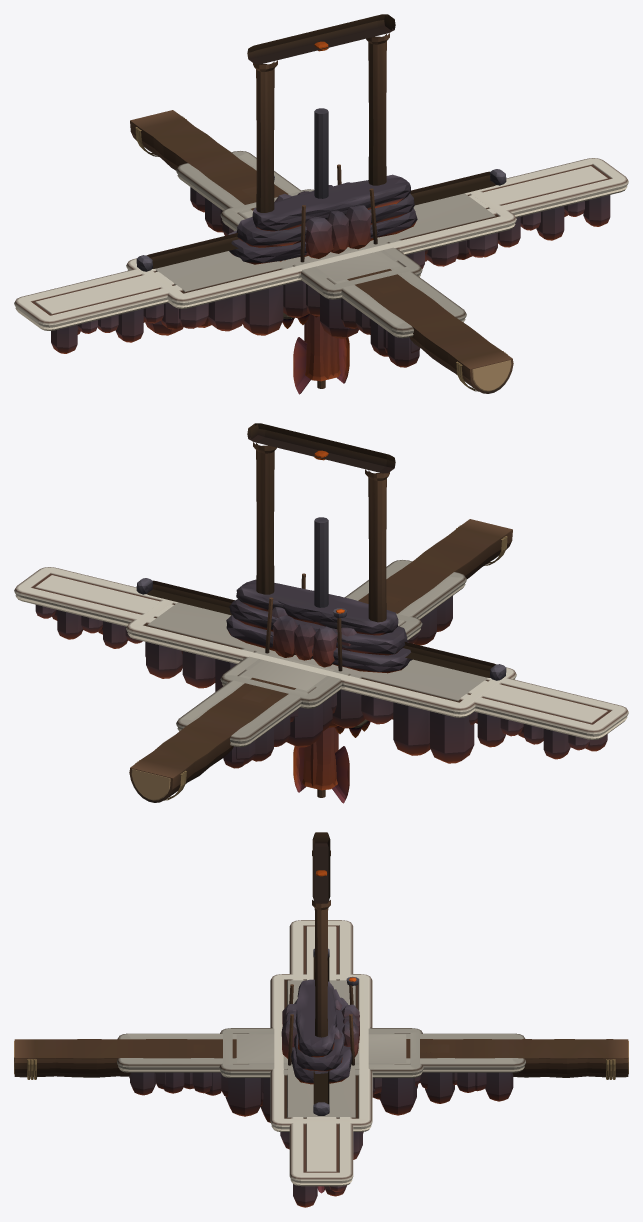
The model's file is volcano-1-BZVdeUXr.glb.
3 renders of one model, top to bottom at view 1: azimuth 30°, elevation 25°; view 2: azimuth 150°, elevation 25°; view 3: azimuth 270°, elevation 25°, orthographic. The views are drawn at different scales.
Parts seen in each view (by area): view 1: block_48x2x5#0, block_28x2x8#0, block_3.5x2x48_plank#0, spout_11.5x2#0, block_6x2x32_grate#0, pressFrame_7x6x4x7#0, pressFrame_7.5x6x2.5x7#0, block_8x2x16#0, hopper_4x3#0, mount_14.4#0, press_7.5x6x2.5#0, blade_3x12x1#0 (+4 smaller); view 2: block_28x2x8#0, block_48x2x5#0, block_3.5x2x48_plank#0, spout_11.5x2#0, block_6x2x32_grate#0, pressFrame_7.5x6x2.5x7#0, pressFrame_7x6x4x7#0, block_8x2x16#0, hopper_4x3#0, mount_14.4#0, press_7.5x6x2.5#0, support_0_ledge_square#0 (+5 smaller); view 3: block_3.5x2x48_plank#0, block_28x2x8#0, block_48x2x5#0, block_6x2x32_grate#0, block_8x2x16#0, spout_11.5x2#0, pressFrame_7.5x6x2.5x7#0, hopper_4x3#0, block_5x2x32#0, pressFrame_7x6x4x7#0, mount_14.4#0, beam_1.5x1x20#0 (+1 smaller).
Part boxes in pixels (x1,y1,x2,y2): block_48x2x5#0: (14, 158, 628, 353); block_28x2x8#0: (126, 190, 516, 335); block_3.5x2x48_plank#0: (130, 110, 513, 393); spout_11.5x2#0: (228, 174, 417, 264); block_6x2x32_grate#0: (176, 151, 466, 367); pressFrame_7x6x4x7#0: (250, 15, 392, 212); pressFrame_7.5x6x2.5x7#0: (247, 14, 395, 212); block_8x2x16#0: (220, 189, 422, 338); hopper_4x3#0: (274, 164, 377, 262); mount_14.4#0: (136, 169, 506, 271); press_7.5x6x2.5#0: (282, 108, 328, 328); blade_3x12x1#0: (293, 337, 349, 394); block_28x2x8#0: (126, 599, 516, 763); block_48x2x5#0: (14, 567, 628, 759); block_3.5x2x48_plank#0: (129, 519, 512, 802); spout_11.5x2#0: (226, 579, 412, 673); block_6x2x32_grate#0: (176, 560, 466, 764); pressFrame_7.5x6x2.5x7#0: (247, 423, 395, 622); pressFrame_7x6x4x7#0: (250, 424, 392, 620); block_8x2x16#0: (220, 613, 422, 747); hopper_4x3#0: (265, 573, 356, 671); mount_14.4#0: (136, 578, 506, 680); press_7.5x6x2.5#0: (314, 517, 370, 737); support_0_ledge_square#0: (302, 727, 338, 790); block_3.5x2x48_plank#0: (14, 1039, 628, 1079); block_28x2x8#0: (270, 974, 372, 1159); block_48x2x5#0: (289, 920, 353, 1207); block_6x2x32_grate#0: (117, 1033, 525, 1105); block_8x2x16#0: (219, 1028, 423, 1116); spout_11.5x2#0: (291, 979, 352, 1084); pressFrame_7.5x6x2.5x7#0: (312, 832, 330, 1037); hopper_4x3#0: (281, 976, 359, 1065); block_5x2x32#0: (129, 1038, 512, 1099); pressFrame_7x6x4x7#0: (312, 833, 330, 1019); mount_14.4#0: (313, 948, 329, 1115); beam_1.5x1x20#0: (193, 1044, 449, 1052).
Bounding box in the file's own units: 48 × 27.75 × 48.12.
